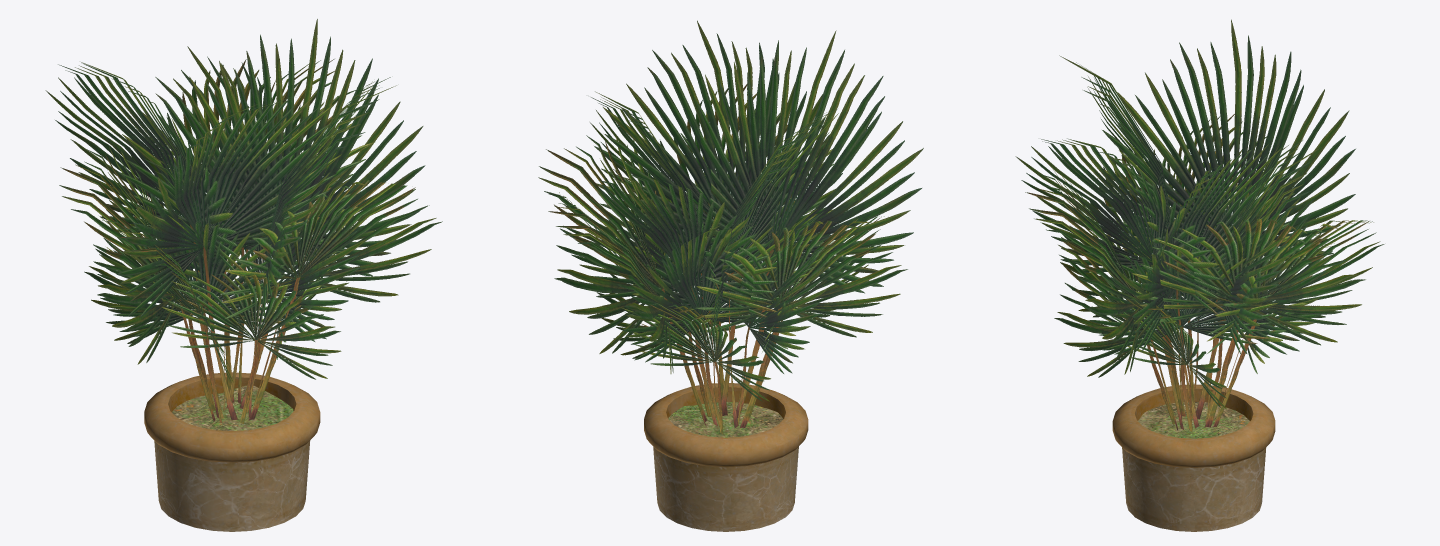
The model's file is MB_Pot_Flower_02.fbx.
3 views of the same model, side by side, from view 1: azimuth 30°, elevation 25°; view 2: azimuth 150°, elevation 25°; view 3: azimuth 270°, elevation 25° (orthographic). The views are drawn at different scales.
Visible parts, largest first — view 1: MB_Pot_Flower_02_LOD0; view 2: MB_Pot_Flower_02_LOD0; view 3: MB_Pot_Flower_02_LOD0.
Boxes of the visible parts, x1,y1,x2,y2 form: MB_Pot_Flower_02_LOD0: (45,19,442,531); MB_Pot_Flower_02_LOD0: (538,20,923,531); MB_Pot_Flower_02_LOD0: (1015,19,1384,531).
Size of what is drawn, in the model's own units: 245 by 274 by 254.
